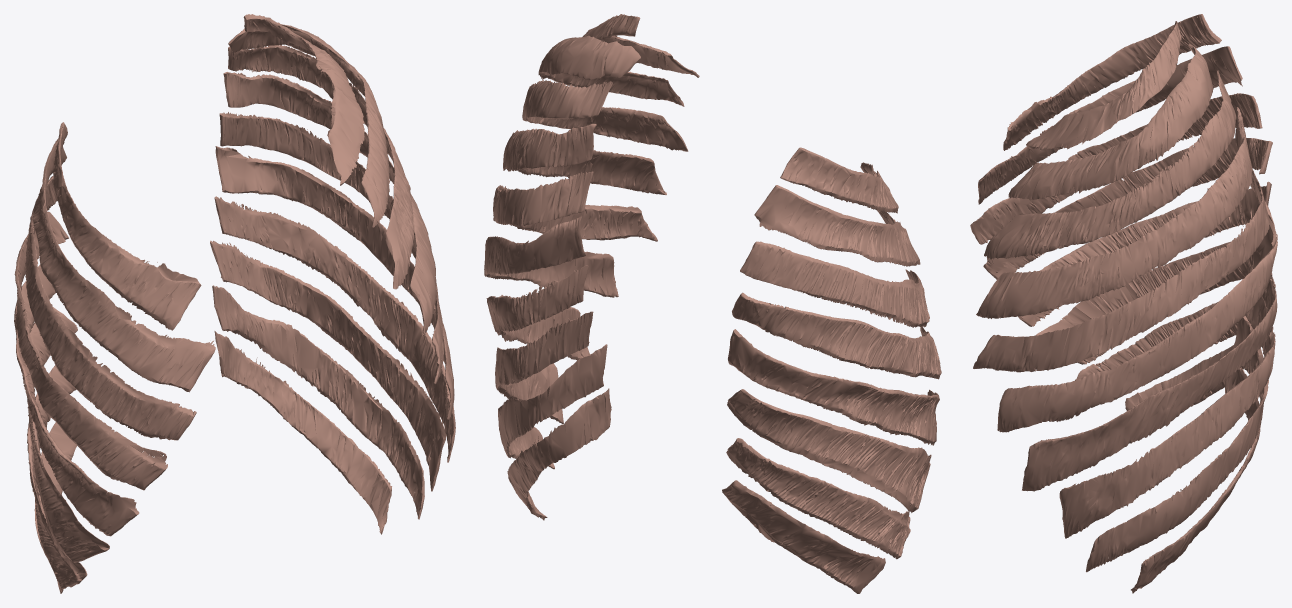
Rendered from thorax-17.glb.
3 renders of one model, left to right at view 1: azimuth 30°, elevation 25°; view 2: azimuth 150°, elevation 25°; view 3: azimuth 270°, elevation 25°, orthographic. The views are drawn at different scales.
Visible parts, largest first — view 1: FJ1451M, FJ1454; view 2: FJ1454, FJ1451M; view 3: FJ1451M, FJ1454.
Boxes of the visible parts, <box> form: FJ1451M: <box>210,14,455,534</box>; FJ1454: <box>14,122,215,593</box>; FJ1454: <box>722,147,941,593</box>; FJ1451M: <box>484,14,699,520</box>; FJ1451M: <box>973,21,1277,593</box>; FJ1454: <box>970,14,1272,413</box>.
Size of the model in its own units: 0.2708 by 0.3539 by 0.1901.
